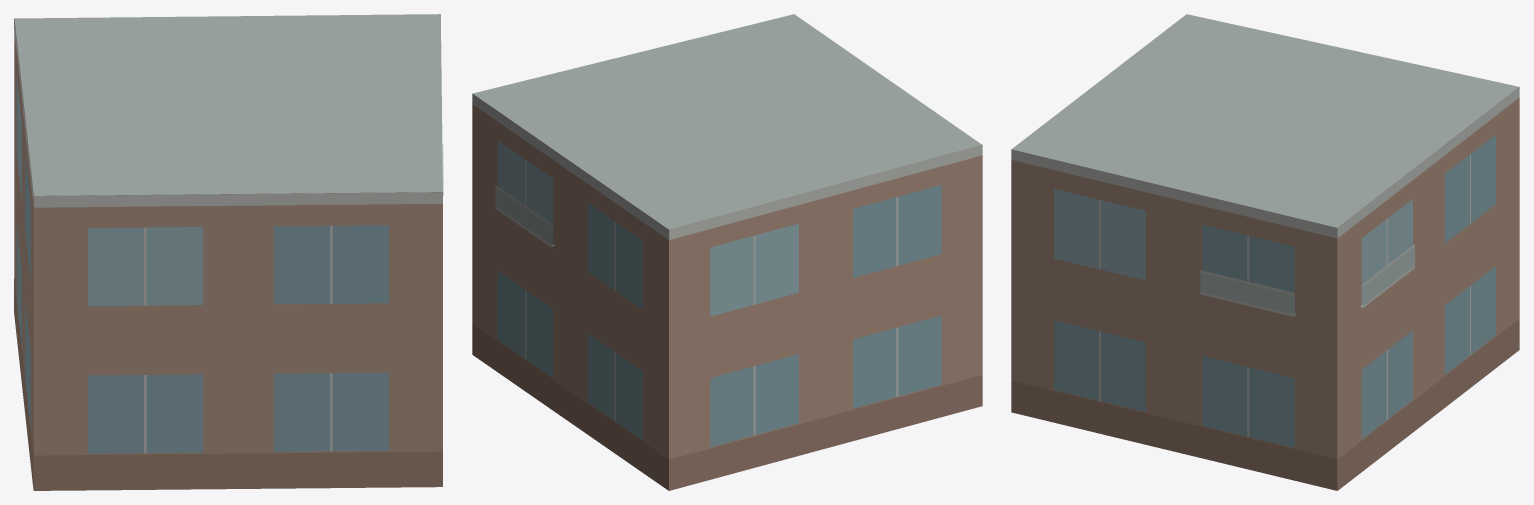
Rendered from survey-upis-32664010.glb.
3 renders of one model, left to right at view 1: azimuth 30°, elevation 25°; view 2: azimuth 150°, elevation 25°; view 3: azimuth 270°, elevation 25°, orthographic. The views are drawn at different scales.
Visible parts, largest first — view 1: survey-upis-32664010.tmp; view 2: survey-upis-32664010.tmp; view 3: survey-upis-32664010.tmp.
Boxes of the visible parts, left/top/right/bottom form: survey-upis-32664010.tmp: left=14, top=14, right=443, bottom=490; survey-upis-32664010.tmp: left=472, top=14, right=982, bottom=490; survey-upis-32664010.tmp: left=1011, top=14, right=1519, bottom=490.
Bounding box in the file's own units: 10.65 × 6.1 × 10.69.
